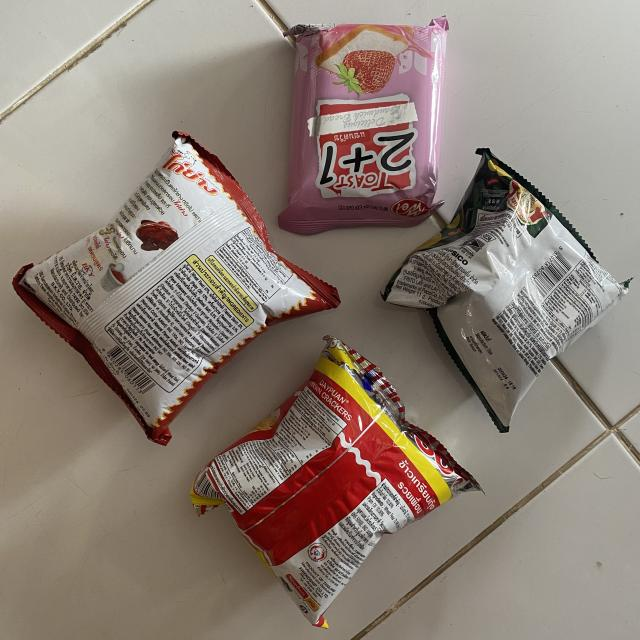plastik: (12, 131, 340, 445), (190, 336, 480, 628), (382, 149, 629, 432), (279, 16, 449, 234)
